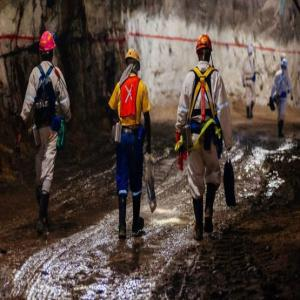blue: (282, 58, 289, 71), (248, 45, 253, 57)
red: (40, 31, 58, 63), (196, 34, 214, 64)
yellow: (127, 48, 142, 74)
